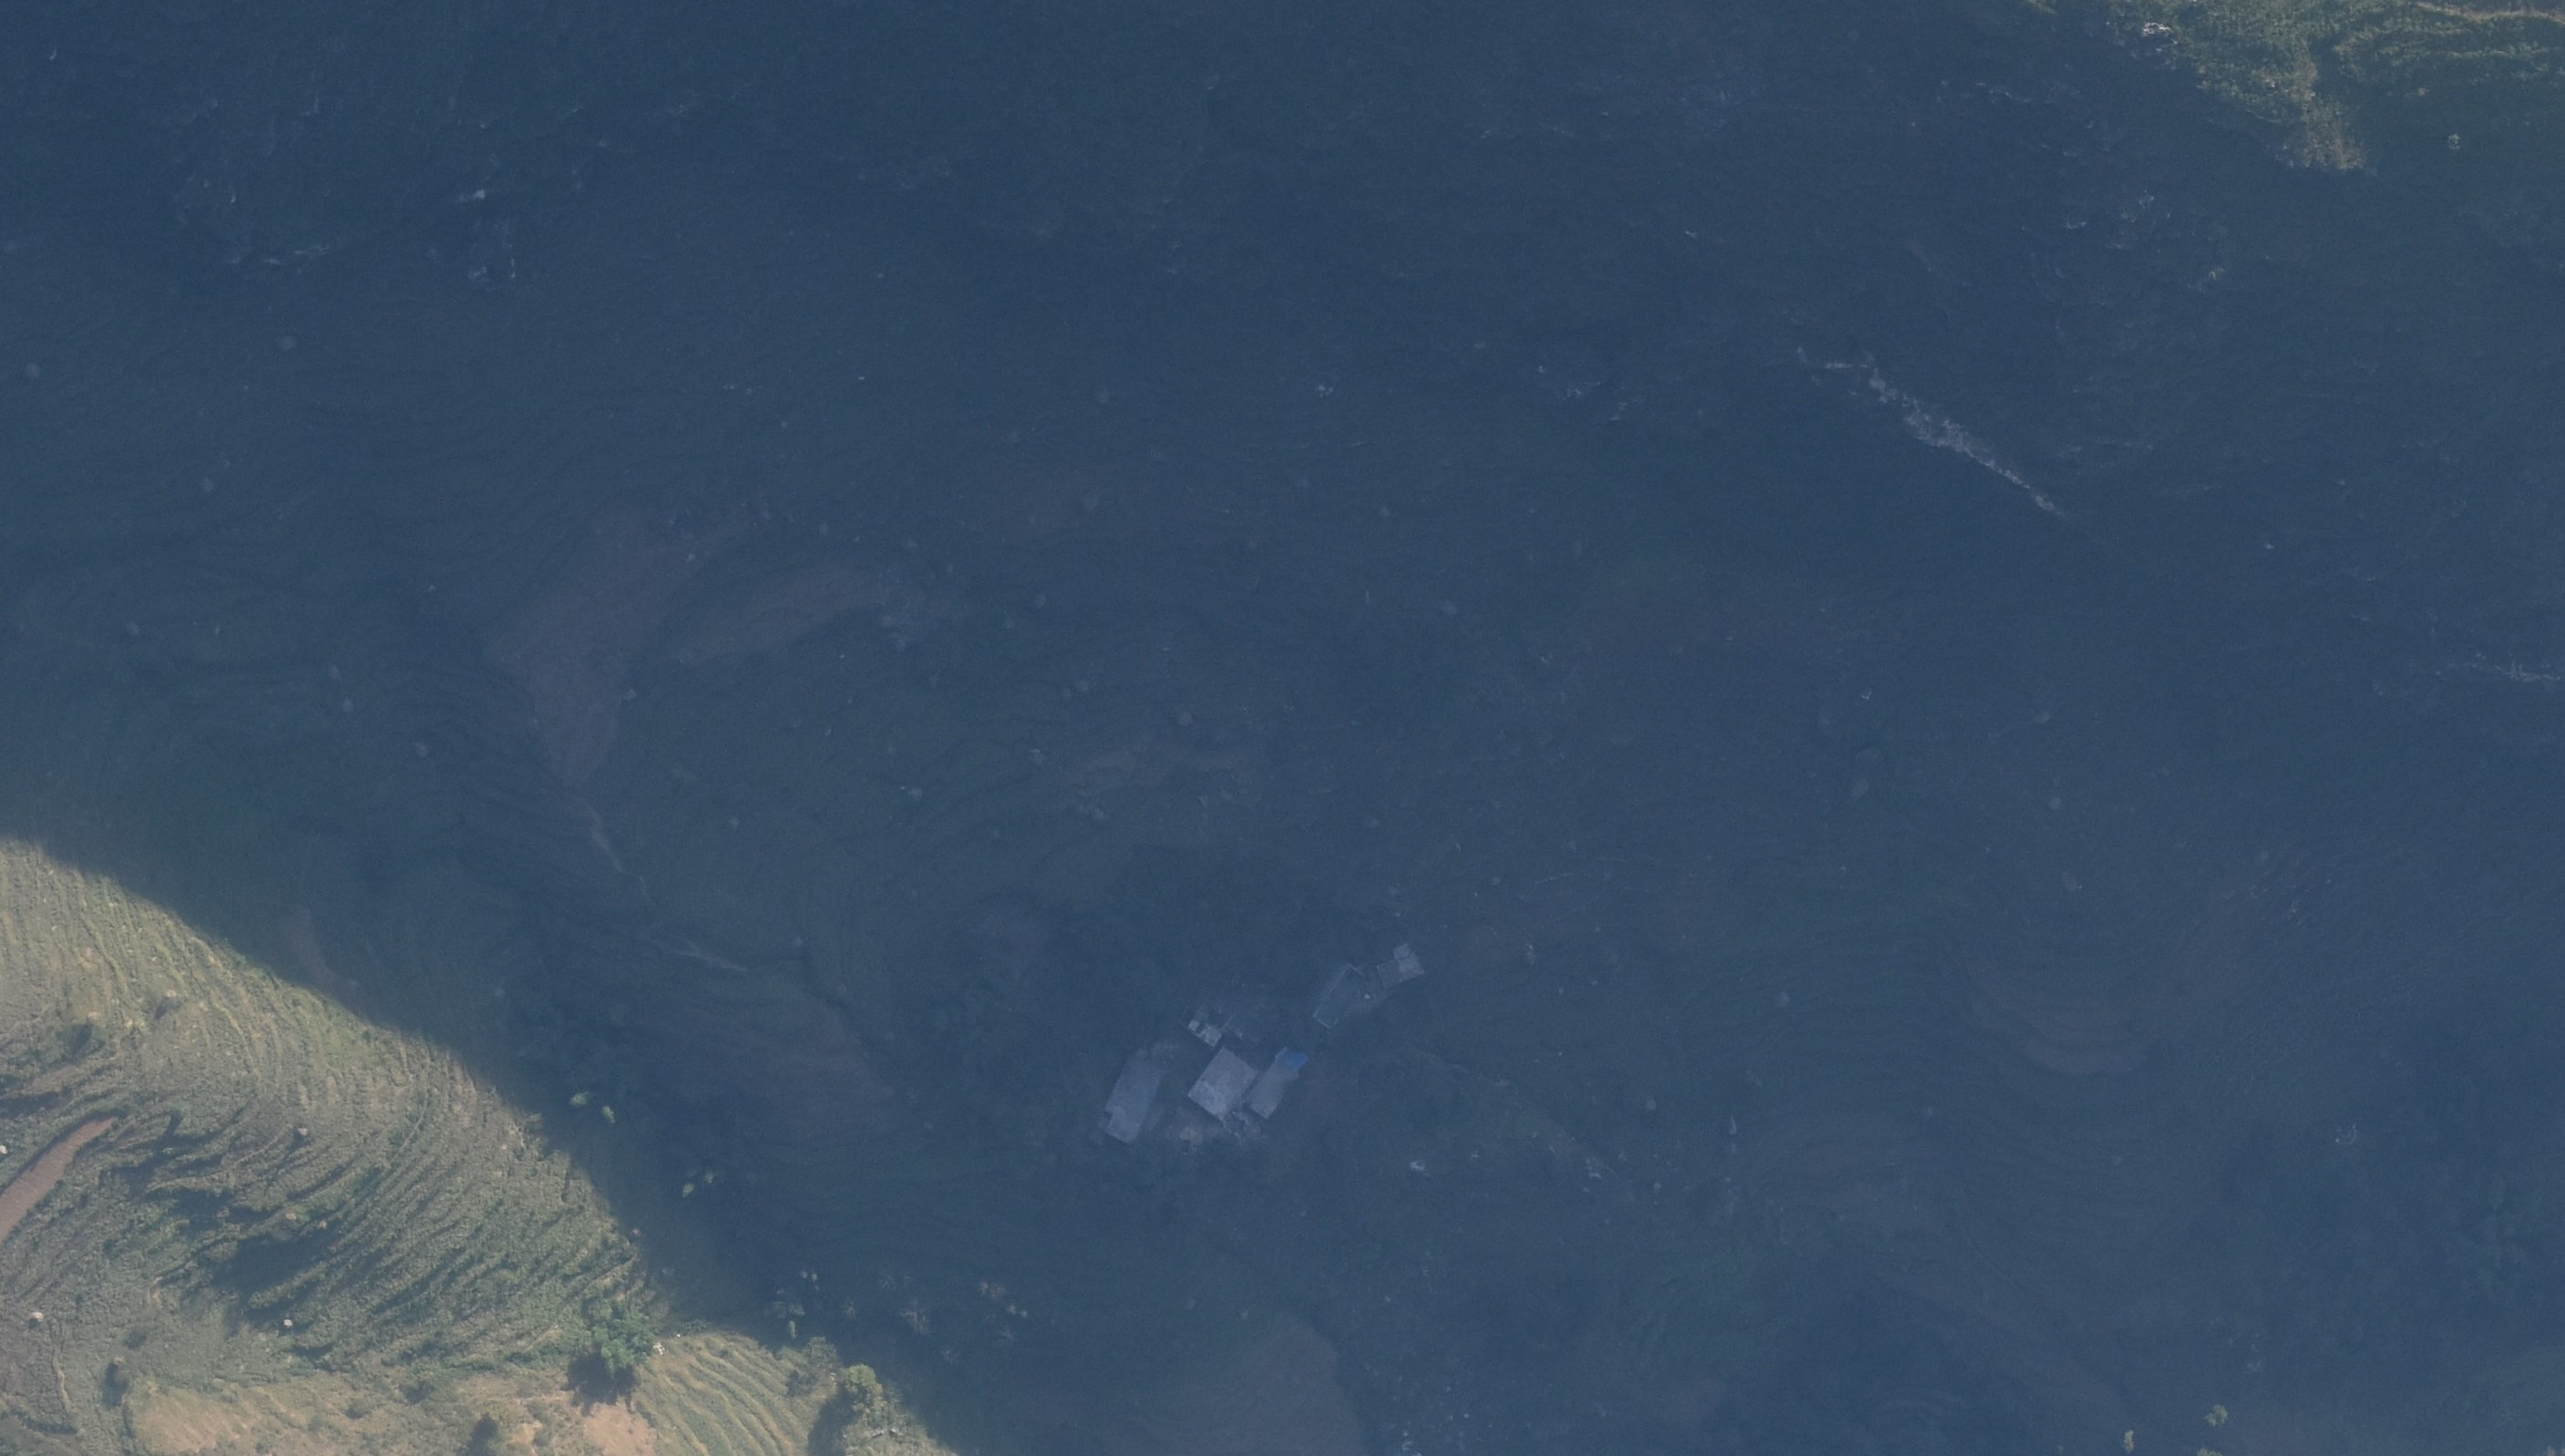building: (1179, 977, 1277, 1047), (1109, 1051, 1169, 1144), (1187, 1046, 1259, 1120), (1247, 1044, 1308, 1120), (1312, 965, 1366, 1029), (1376, 943, 1426, 988)
